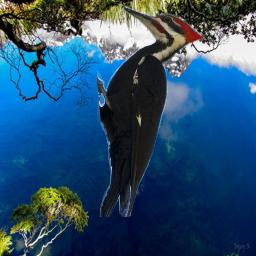Woodpecker: (97, 5, 209, 217)
